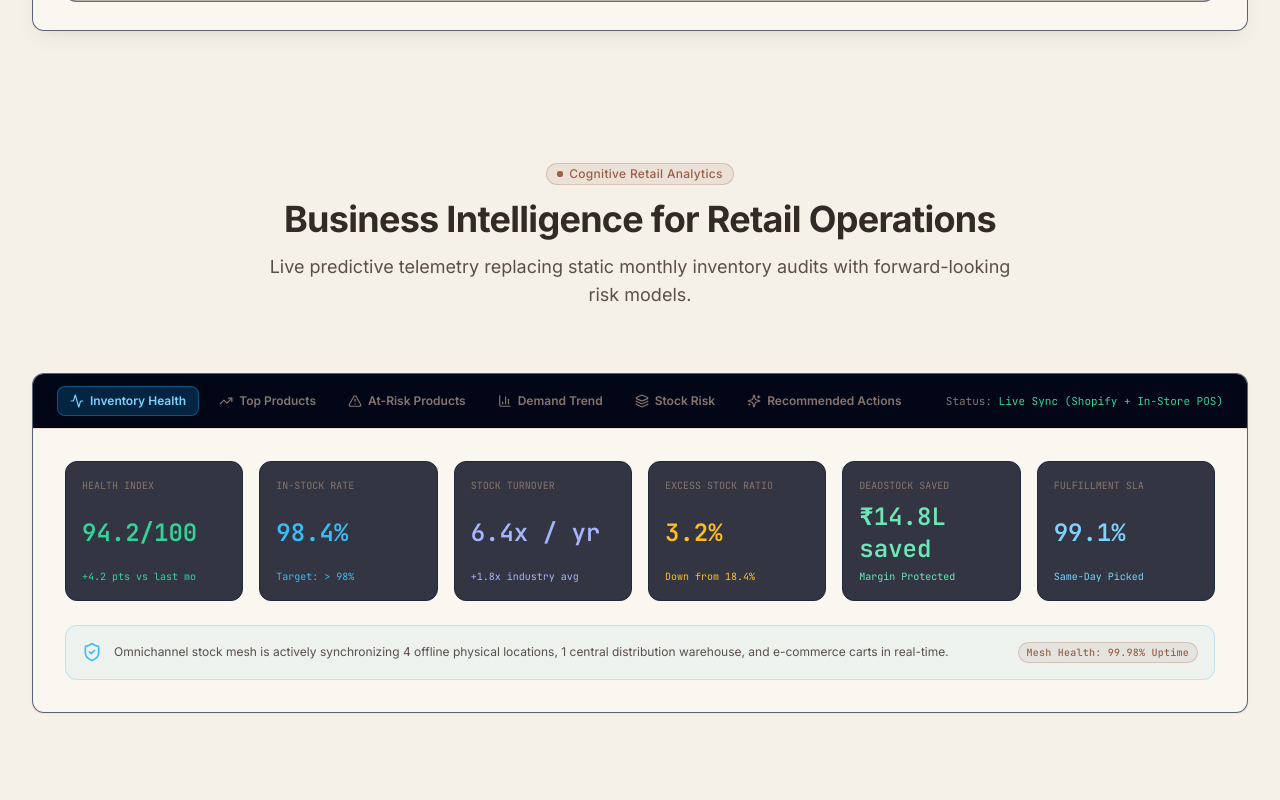
Test: RetailExperience › allows switching tabs in RetailBiDashboard
(page scrolled)
Note: At-Risk Products tab
Click the button "At-Risk Products".
click(407, 401)  # box [336,387,478,415]
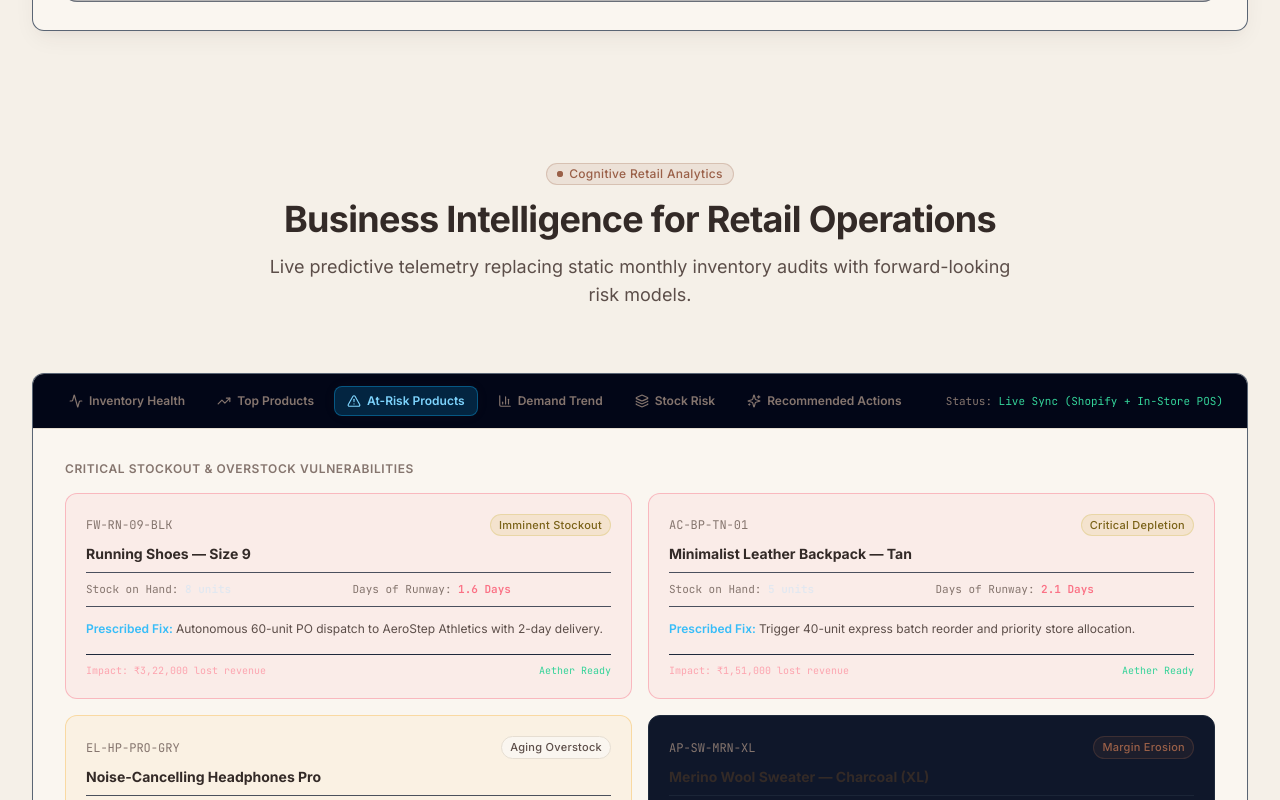
Check: the text "Critical Stockout & Overstock Vulnerabilities" is shown, box [65,461,414,476]
Note: Recommended Actions tab
Click the button "Recommended Actions".
click(824, 401)  # box [735,387,914,415]
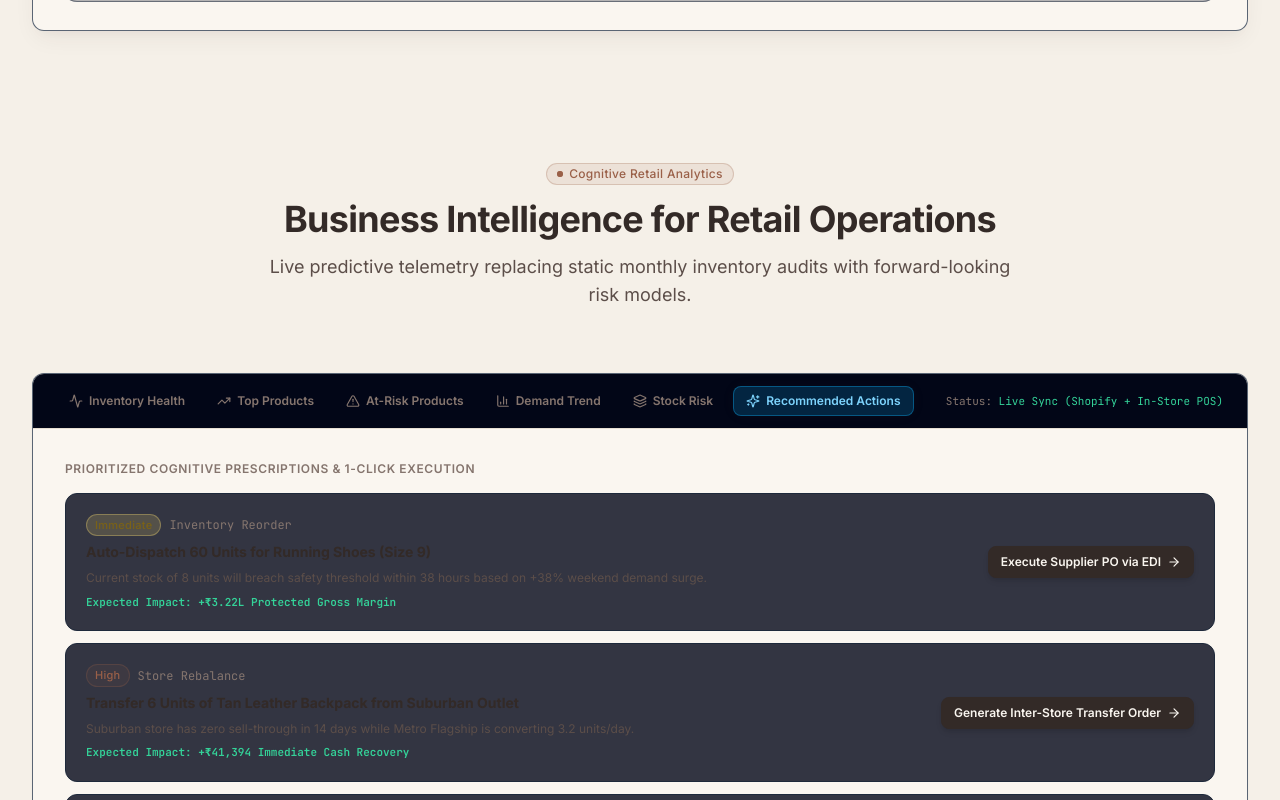
Check: the text "Prioritized Cognitive Prescriptions & 1-Click Execution" is shown, box [65,461,475,476]
